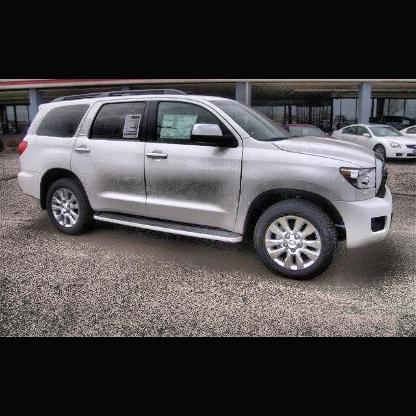Toyota Sequoia SUV 2012: (18, 89, 395, 280)
